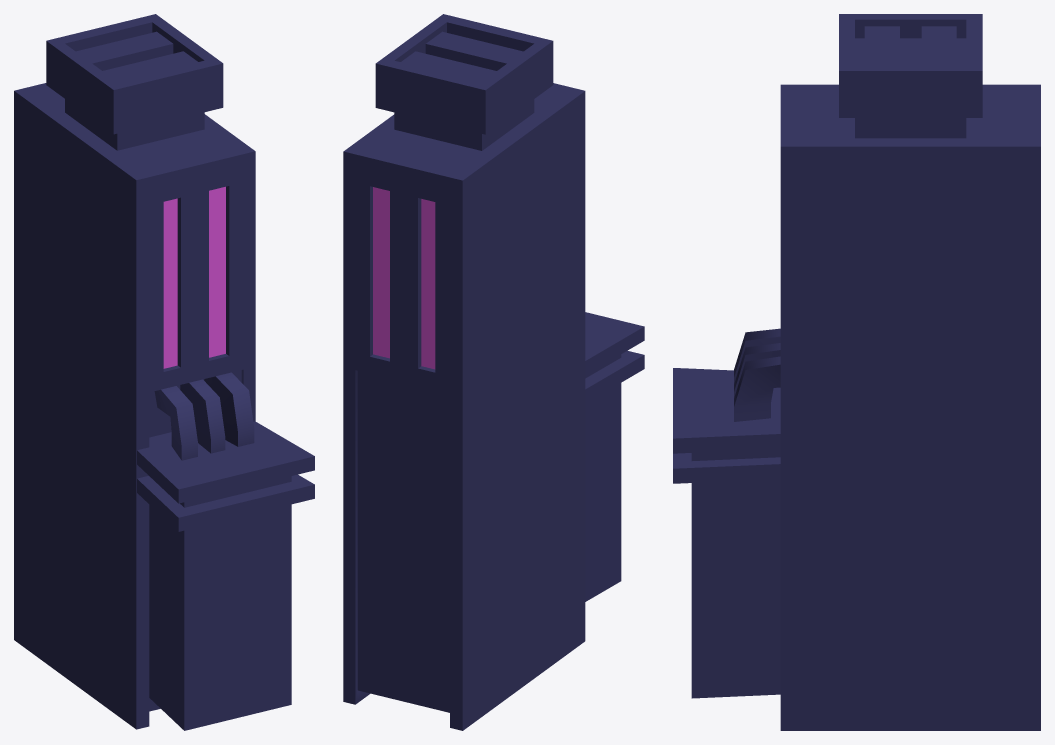
File: Building_4.fbx
3 views of the same model, side by side, from view 1: azimuth 30°, elevation 25°; view 2: azimuth 150°, elevation 25°; view 3: azimuth 270°, elevation 25° (orthographic). The views are drawn at different scales.
Parts seen in each view (by area): view 1: pCube29; view 2: pCube29; view 3: pCube29.
Boxes of the visible parts, x1,y1,x2,y2 form: pCube29: [14, 14, 314, 730]; pCube29: [343, 14, 644, 730]; pCube29: [673, 14, 1040, 730].
Size of the model in its own units: 2.57 by 11.15 by 5.65.
